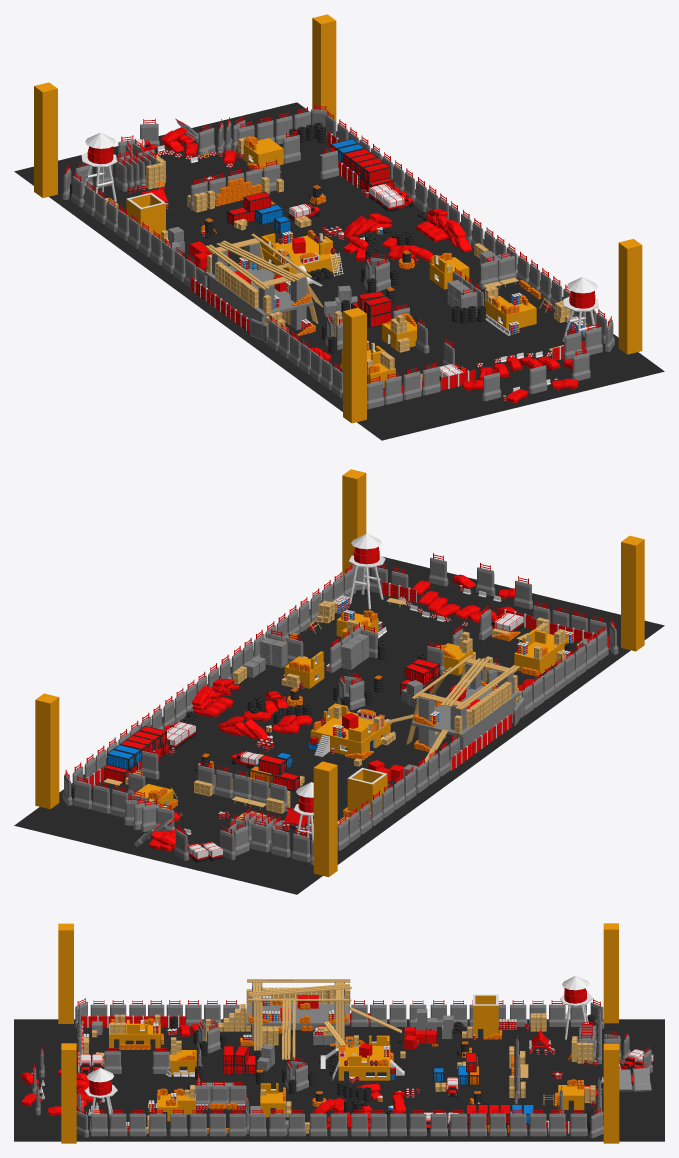
The model's file is resoforge.glb.
3 renders of one model, top to bottom at view 1: azimuth 30°, elevation 25°; view 2: azimuth 150°, elevation 25°; view 3: azimuth 270°, elevation 25°, orthographic. The views are drawn at different scales.
Visible parts, largest first — view 1: PLANE, Cube.050, Cube.206, Cube.207, Cube.191, Cube.201, tower.001, tower.002, Room.022, Cube.002, Room.024, Room.025 (+2 smaller); view 2: PLANE, Cube.050, Cube.191, Cube.201, Cube.207, Cube.206, Cube.002, tower.002, Room.022, Room.023, barricade.089, tower.001 (+1 smaller); view 3: PLANE, Cube.201, Cube.050, Cube.206, Cube.207, Cube.191, Cube.002, Room.022, tower.001, tower.002, Room.023, Room.024 (+44 smaller).
Boxes of the visible parts, x1,y1,x2,y2 form: PLANE: (14, 102, 664, 440); Cube.050: (204, 243, 313, 330); Cube.206: (618, 239, 642, 354); Cube.207: (343, 307, 366, 423); Cube.191: (34, 82, 57, 197); Cube.201: (312, 14, 336, 122); tower.001: (81, 132, 116, 201); tower.002: (562, 277, 598, 341); Room.022: (126, 192, 165, 239); Cube.002: (261, 235, 339, 274); Room.024: (484, 296, 536, 329); Room.025: (243, 138, 283, 165); PLANE: (14, 556, 664, 894); Cube.050: (411, 663, 520, 750); Cube.191: (313, 761, 337, 877); Cube.201: (35, 693, 59, 809); Cube.207: (621, 535, 644, 651); Cube.206: (342, 469, 366, 577); Cube.002: (310, 711, 390, 754); tower.002: (348, 533, 385, 609); Room.022: (347, 767, 387, 815); Room.023: (514, 634, 568, 674); barricade.089: (337, 671, 365, 710); tower.001: (293, 782, 313, 839); PLANE: (14, 1019, 664, 1141); Cube.201: (603, 1043, 619, 1143); Cube.050: (246, 982, 349, 1043); Cube.206: (61, 1043, 76, 1143); Cube.207: (58, 923, 73, 1023); Cube.191: (603, 923, 618, 1023); Cube.002: (338, 1044, 390, 1080); Room.022: (473, 994, 498, 1038); tower.001: (560, 976, 592, 1039); tower.002: (84, 1068, 117, 1131); Room.023: (109, 1023, 160, 1048); Room.024: (157, 1094, 195, 1121).
Size of the model in its own units: 116 by 42.08 by 252.
